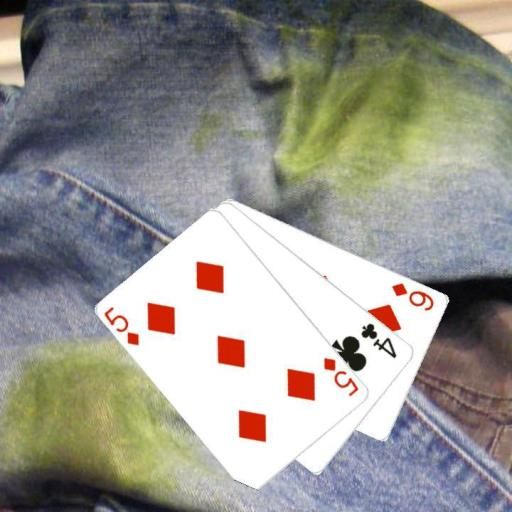4C: (358, 319, 399, 360)
5D: (320, 354, 361, 398), (101, 303, 141, 348)
6D: (389, 279, 437, 313)
